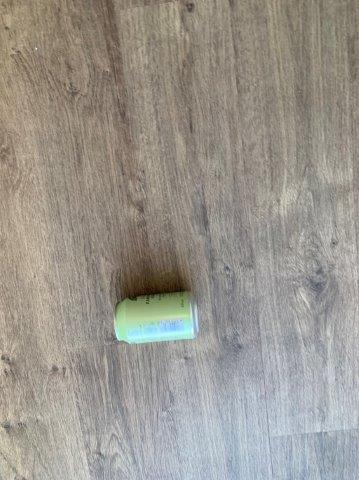kaleng: (115, 293, 198, 343)
